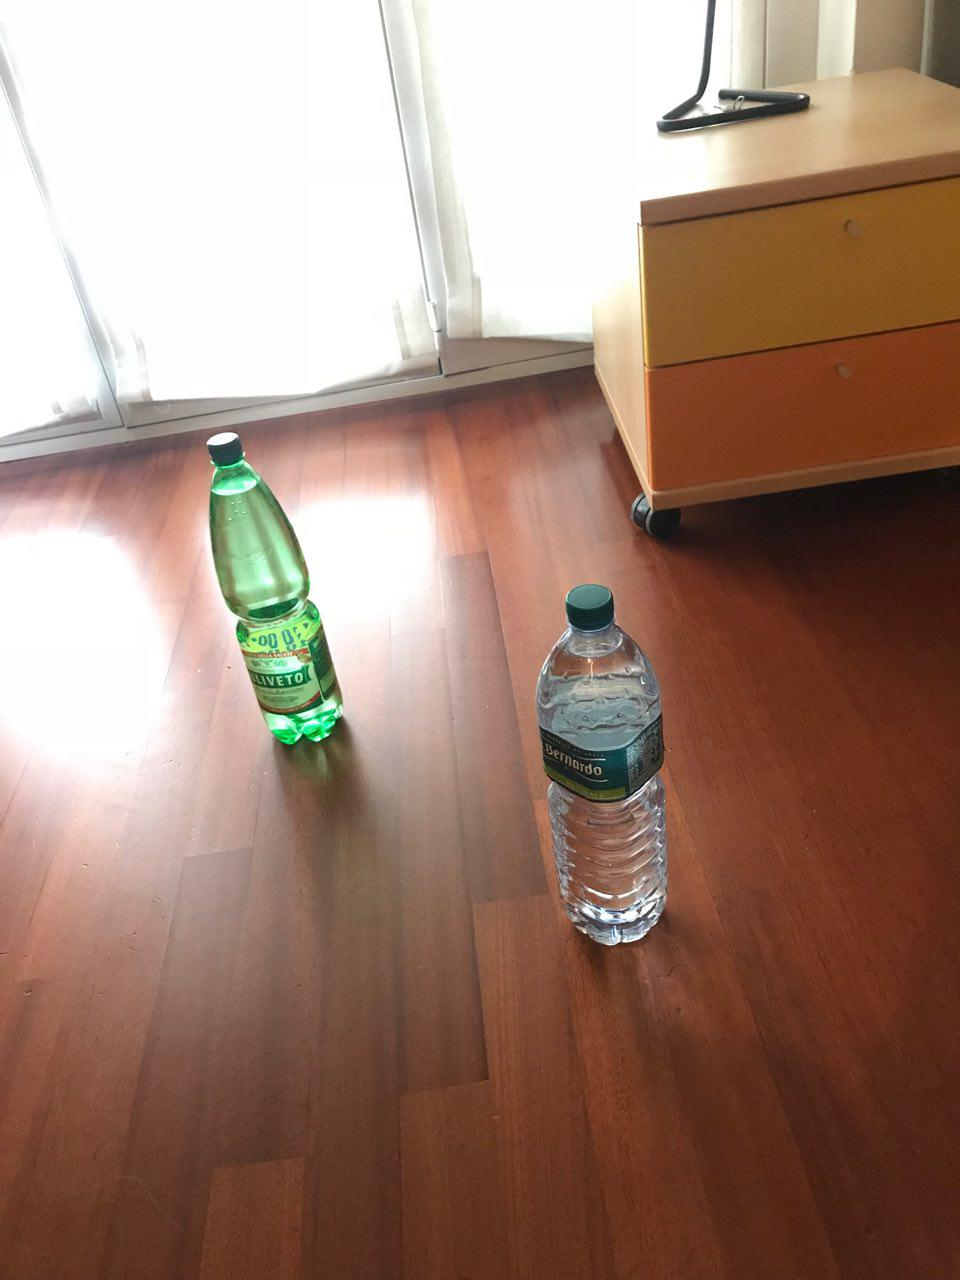san_bernardo: (536, 584, 667, 946)
